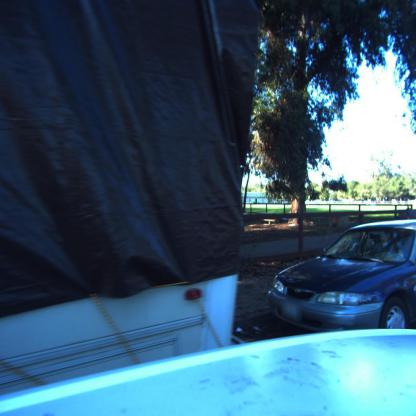car: (266, 223, 416, 331)
